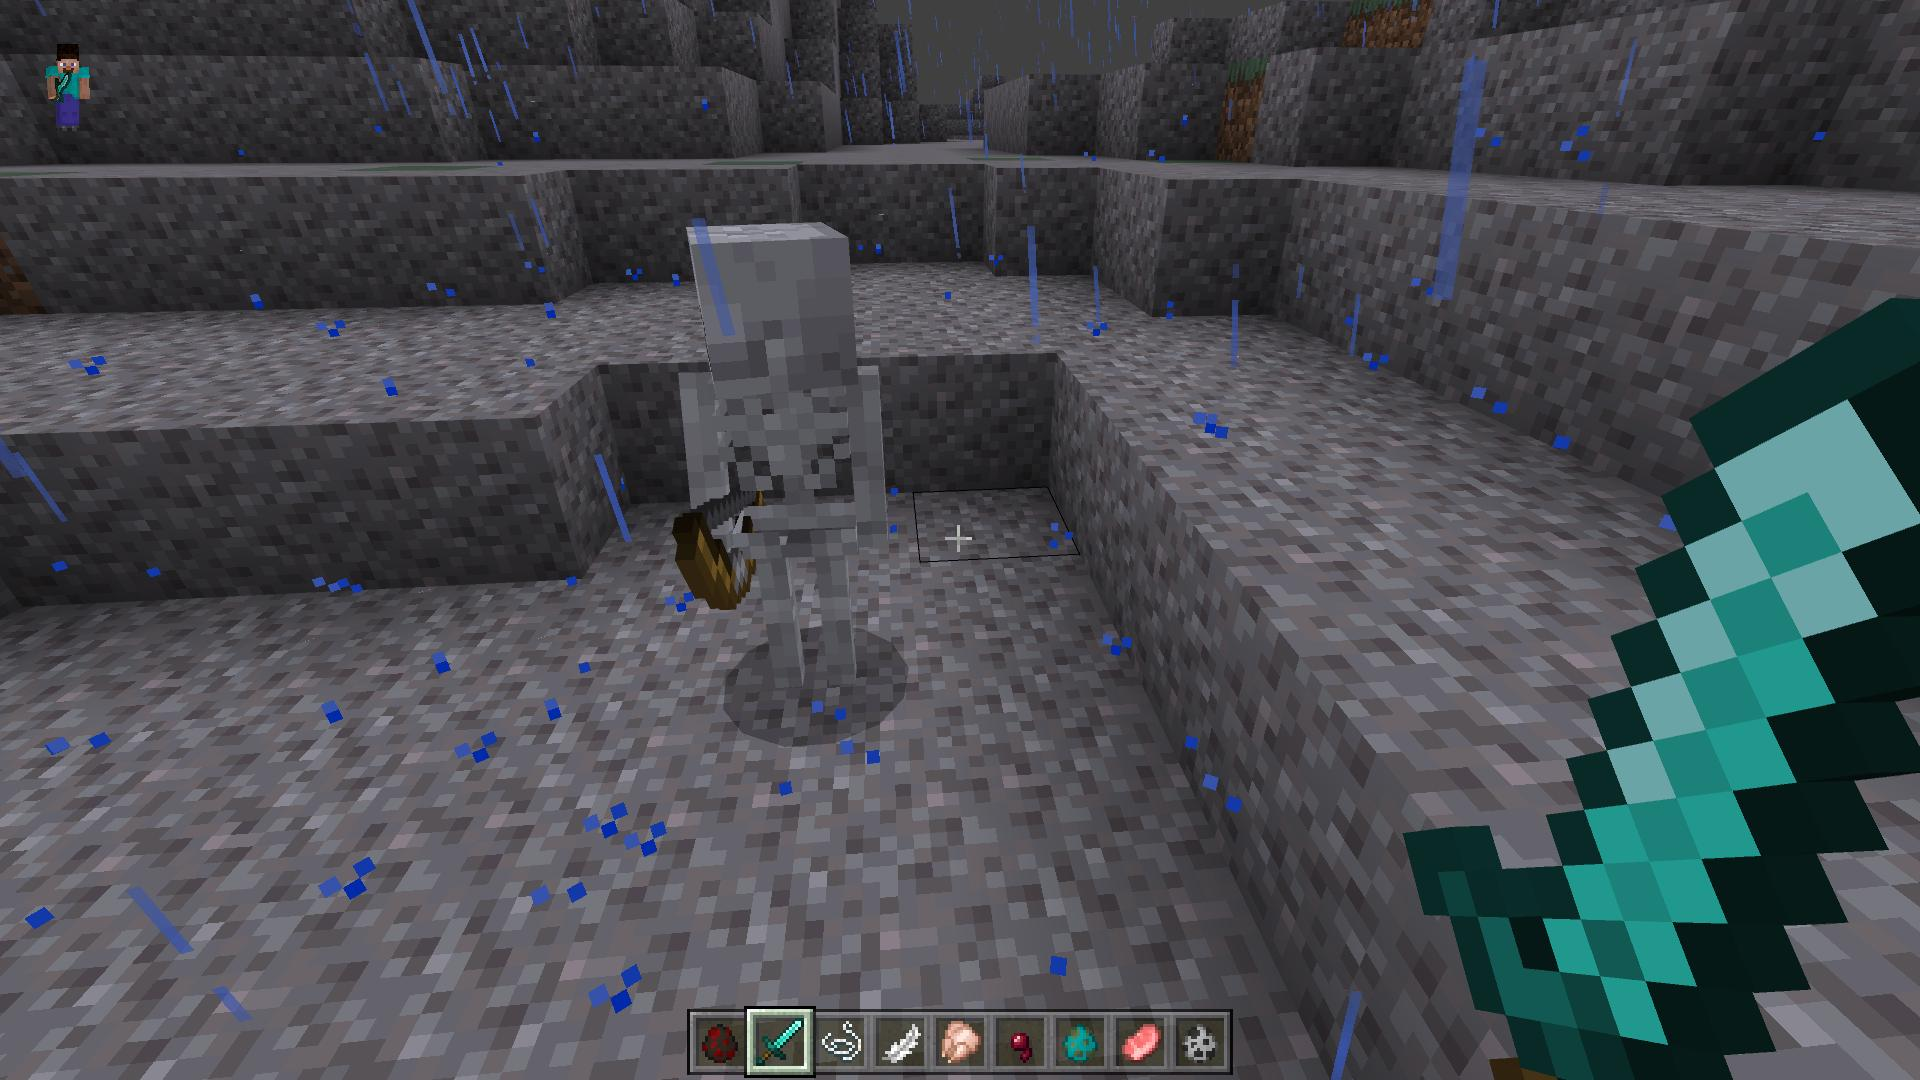skeleton: (669, 222, 893, 695)
